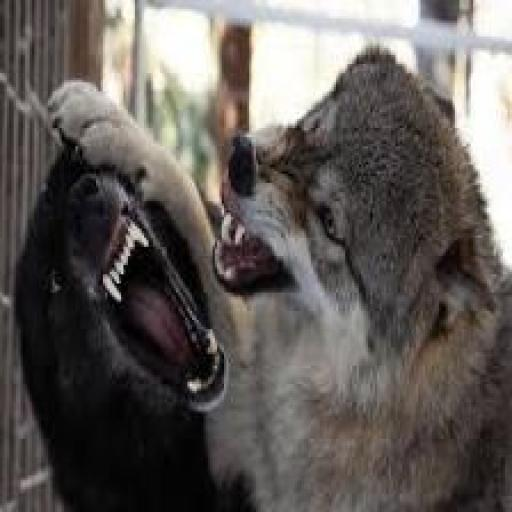wolf: (41, 2, 511, 512)
